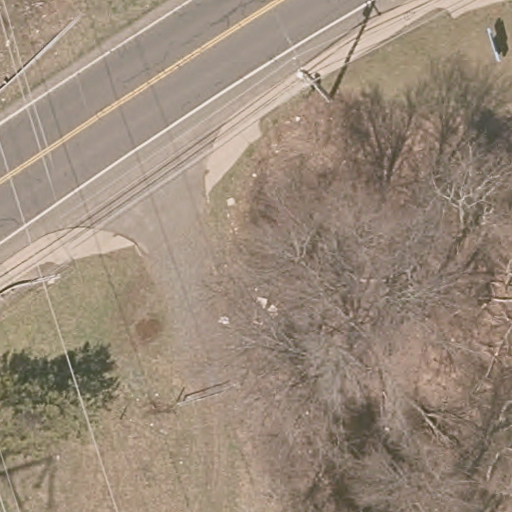DT: (295, 65, 334, 103)
